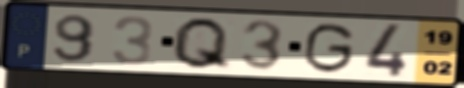3: (240, 18, 285, 73), (110, 14, 155, 67)
4: (362, 21, 411, 80)
9: (51, 12, 98, 65)
G: (301, 21, 358, 75)
Q: (169, 15, 234, 72)
